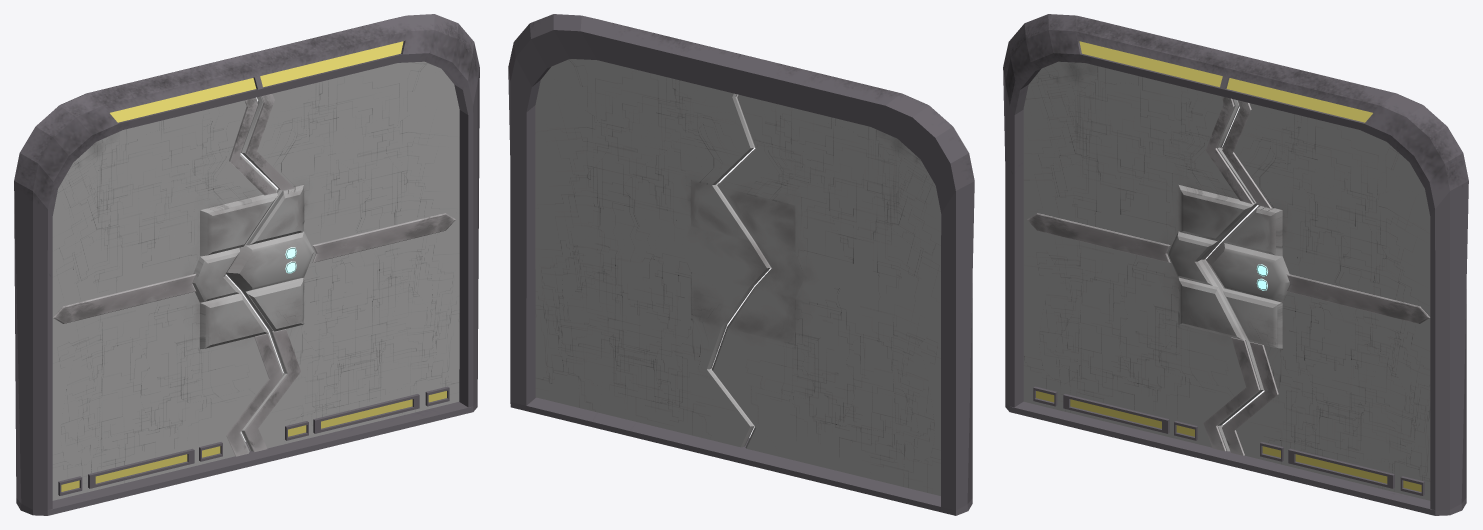
The model's file is S_Door_2.fbx.
3 renders of one model, left to right at view 1: azimuth 30°, elevation 25°; view 2: azimuth 150°, elevation 25°; view 3: azimuth 330°, elevation 25°, orthographic.
Parts seen in each view (by area): view 1: Drzwi, Obudowa, Detal_03, Detal_01, Światła; view 2: Drzwi, Obudowa; view 3: Drzwi, Obudowa, Detal_03, Detal_01, Światła.
Part boxes in pixels (x1,y1,x2,y2): Drzwi: [52, 61, 459, 500]; Obudowa: [14, 14, 479, 515]; Detal_03: [226, 94, 300, 456]; Detal_01: [53, 213, 455, 323]; Światła: [58, 386, 449, 495]; Drzwi: [535, 59, 941, 495]; Obudowa: [508, 14, 974, 515]; Drzwi: [1023, 61, 1430, 500]; Obudowa: [1003, 14, 1468, 515]; Detal_03: [1203, 96, 1278, 455]; Detal_01: [1027, 213, 1429, 323]; Światła: [1033, 386, 1424, 495].
Bounding box in the file's own units: 541 × 444 × 44.32.
